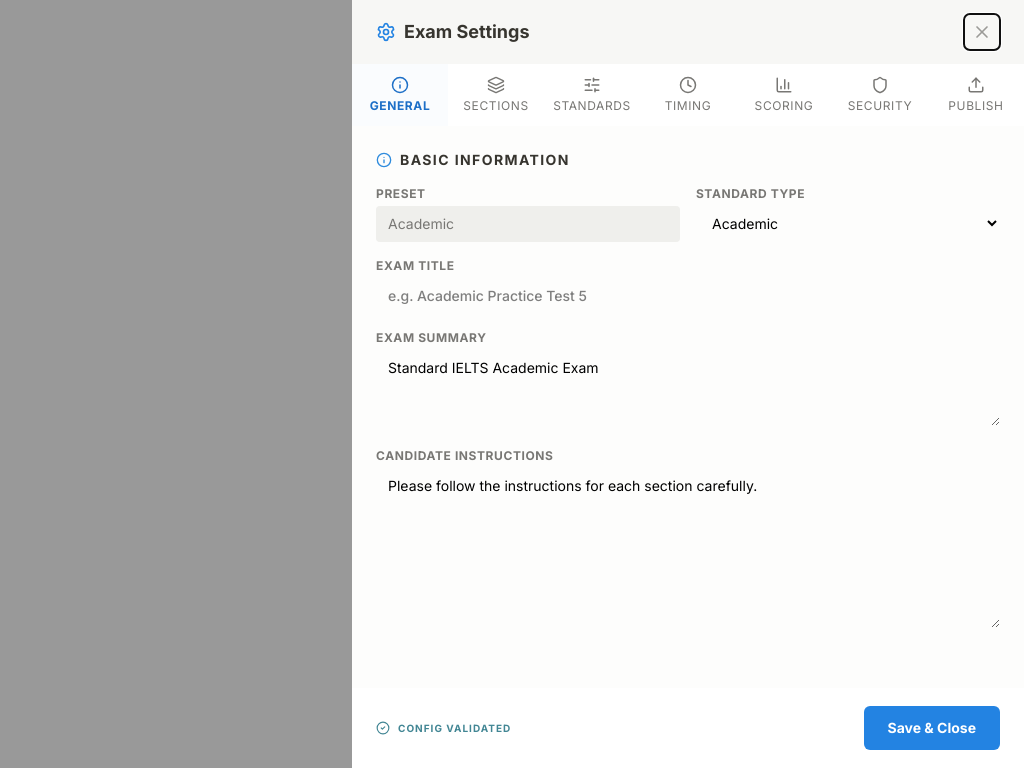
Scenario: ExamSettingsDrawer timing validation › shows section flow validation errors for invalid timing config
This screenshot has width=1024, height=768.
Click the button "Timing" at (688, 95), box [640, 64, 736, 126]
(page scrolled)
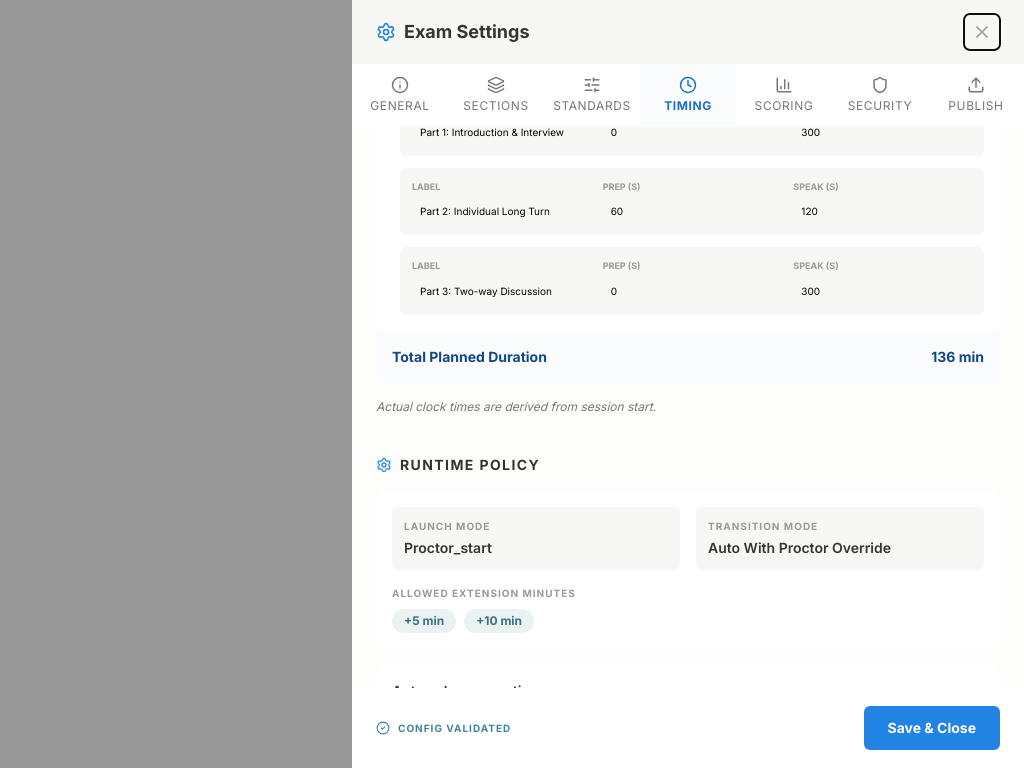
Expected: the text "Actual clock times are derived from session start." is shown, [376, 398, 656, 414]
